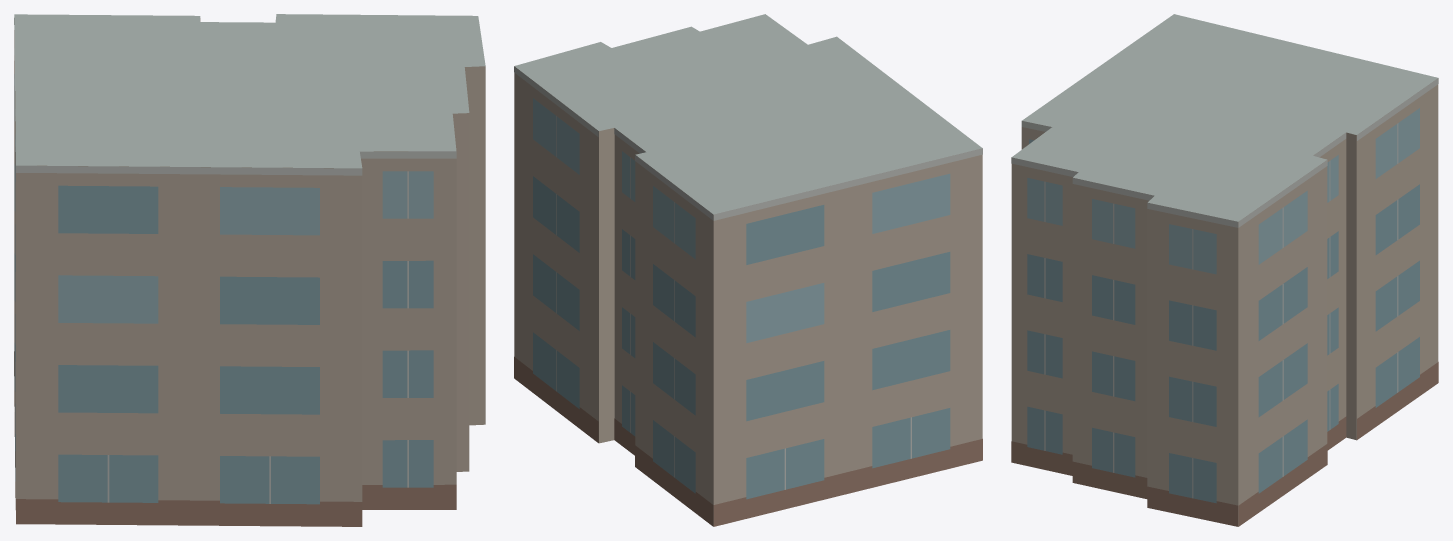
The model's file is survey-upis-33018822.glb.
3 views of the same model, side by side, from view 1: azimuth 30°, elevation 25°; view 2: azimuth 150°, elevation 25°; view 3: azimuth 270°, elevation 25° (orthographic). The views are drawn at different scales.
Visible parts, largest first — view 1: survey-upis-33018822.tmp; view 2: survey-upis-33018822.tmp; view 3: survey-upis-33018822.tmp.
Boxes of the visible parts, bbox=[...] form: survey-upis-33018822.tmp: bbox=[14, 14, 485, 526]; survey-upis-33018822.tmp: bbox=[514, 14, 982, 526]; survey-upis-33018822.tmp: bbox=[1011, 14, 1438, 526].
Size of the model in its own units: 17.53 by 12 by 15.23.
